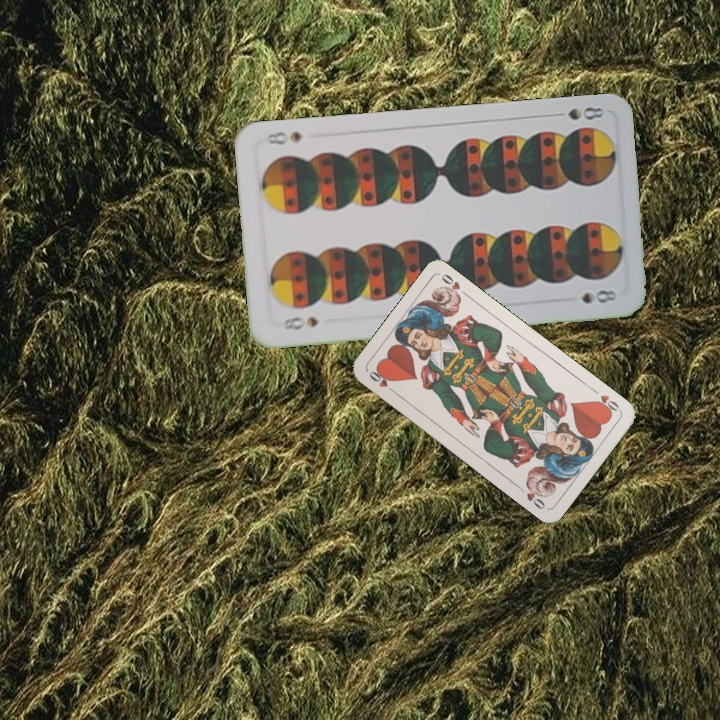HO: (588, 384, 623, 417), (365, 366, 399, 396)
S8: (547, 103, 607, 123), (279, 312, 320, 333)
